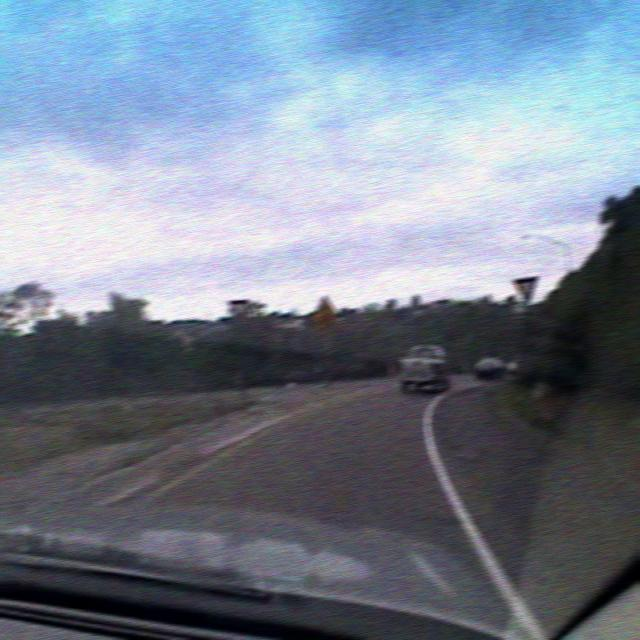yield: (510, 274, 539, 306)
